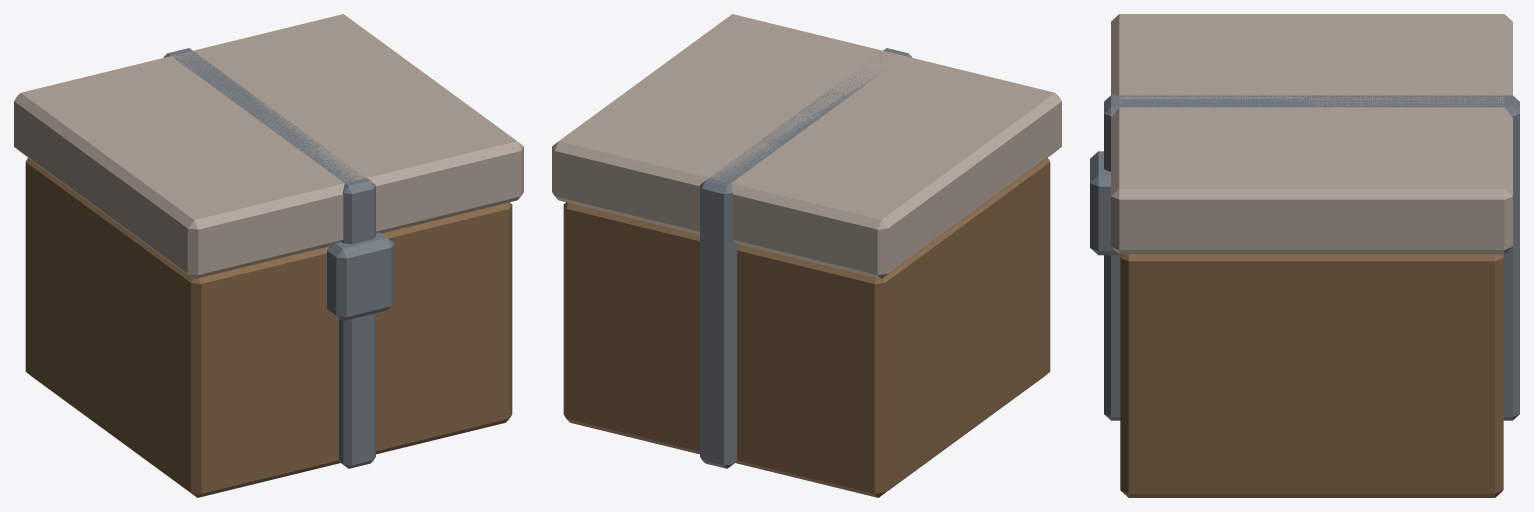
Rendered from wood_container.lod1.glb.
The picture shows the model from 3 angles, left to right: view 1: azimuth 30°, elevation 25°; view 2: azimuth 150°, elevation 25°; view 3: azimuth 270°, elevation 25°; orthographic projection. The views are drawn at different scales.
Bounding box in the file's own units: 0.92 × 0.7396 × 0.9196.
